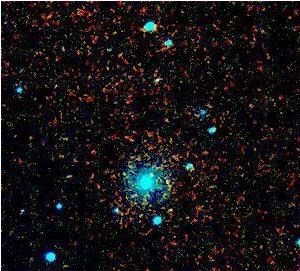star: (154, 169, 184, 199)
